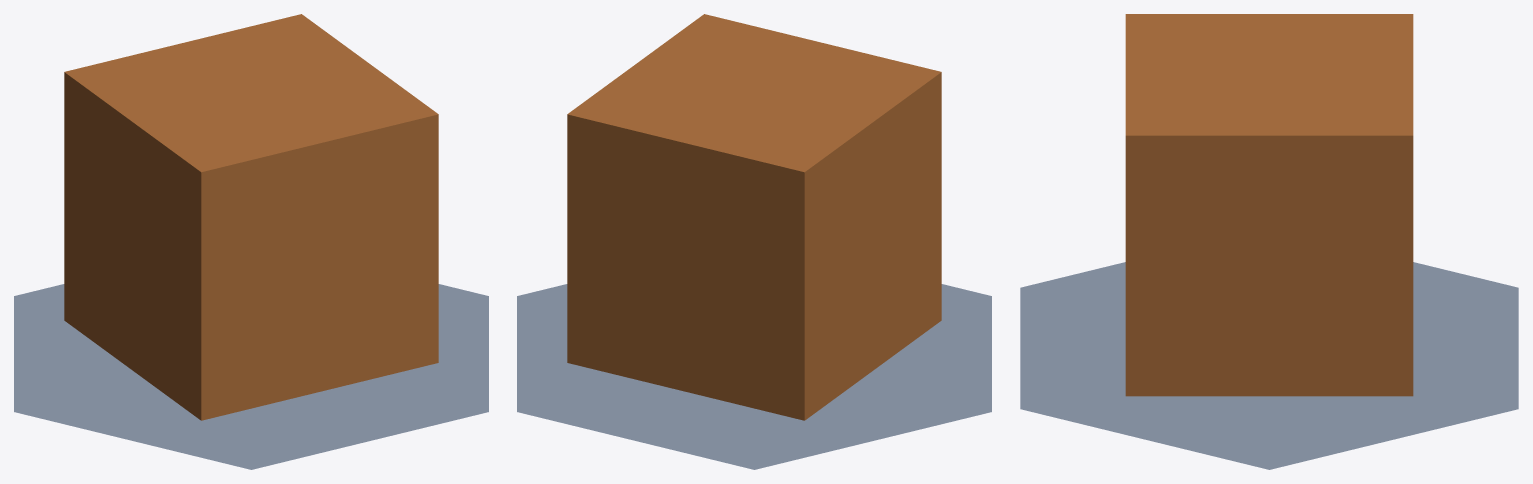
3 renders of one model, left to right at view 1: azimuth 30°, elevation 25°; view 2: azimuth 150°, elevation 25°; view 3: azimuth 270°, elevation 25°, orthographic. The views are drawn at different scales.
Visible parts, largest first — view 1: 상자, 받침; view 2: 상자, 받침; view 3: 상자, 받침.
Boxes of the visible parts, x1,y1,x2,y2 form: 상자: (64, 14, 438, 420); 받침: (14, 284, 488, 469); 상자: (567, 14, 941, 420); 받침: (517, 284, 991, 469); 상자: (1125, 14, 1413, 396); 받침: (1020, 262, 1518, 469).
Size of the model in its own units: 4 by 2.1 by 3.46.
2 materials, 1 textured.
